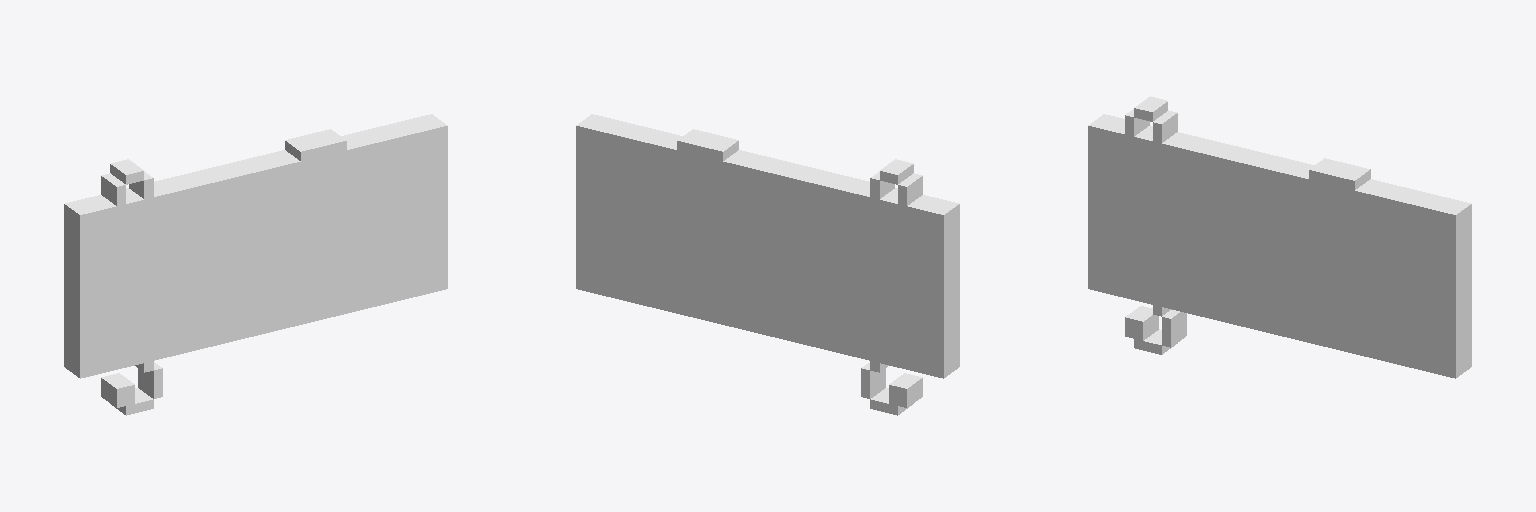
The model's file is BDiminishedChord.obj.
The picture shows the model from 3 angles: view 1: azimuth 30°, elevation 25°; view 2: azimuth 150°, elevation 25°; view 3: azimuth 330°, elevation 25°; orthographic projection.
Parts seen in each view (by area): view 1: object 1; view 2: object 1; view 3: object 1.
Part boxes in pixels (bbox=[...]): object 1: bbox=[64, 114, 447, 415]; object 1: bbox=[576, 114, 959, 415]; object 1: bbox=[1088, 96, 1471, 378].
Size of the model in its own units: 4 by 2.5 by 0.3.